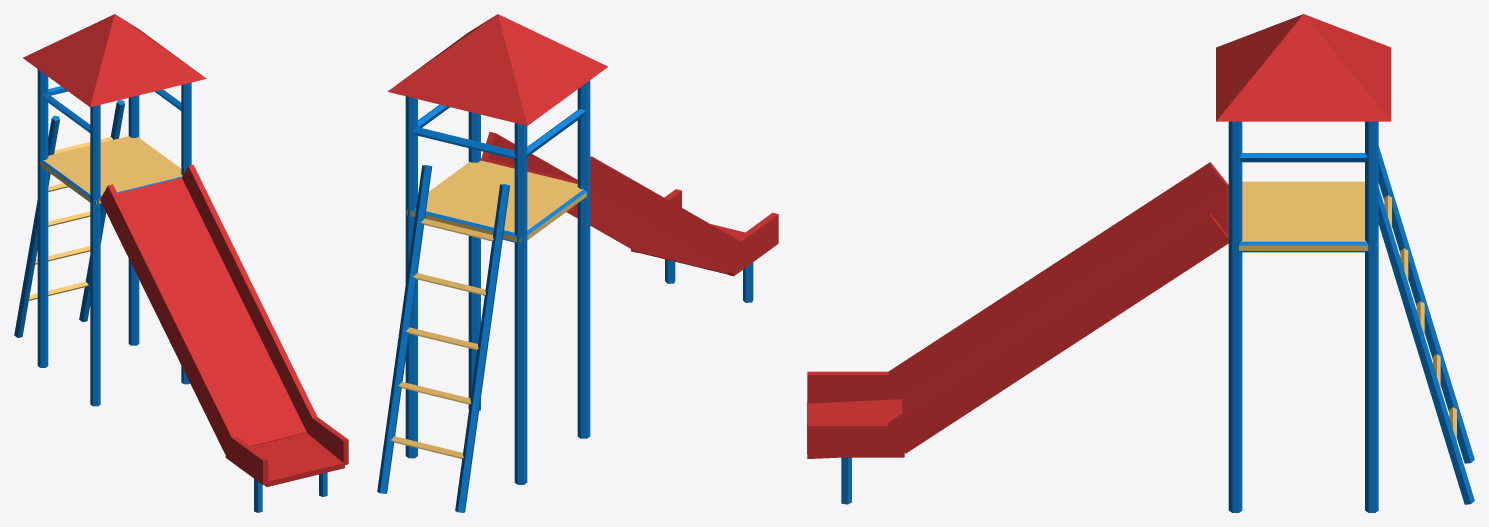
File: rutsche.glb
3 views of the same model, side by side, from view 1: azimuth 30°, elevation 25°; view 2: azimuth 150°, elevation 25°; view 3: azimuth 270°, elevation 25° (orthographic). The views are drawn at different scales.
Parts seen in each view (by area): view 1: rutsche-m; view 2: rutsche-m; view 3: rutsche-m.
Boxes of the visible parts, left/top/right/bottom form: rutsche-m: left=14, top=14, right=348, bottom=512; rutsche-m: left=377, top=14, right=778, bottom=512; rutsche-m: left=807, top=14, right=1474, bottom=512.
Size of the model in its own units: 0.9 by 2.66 by 3.43.
